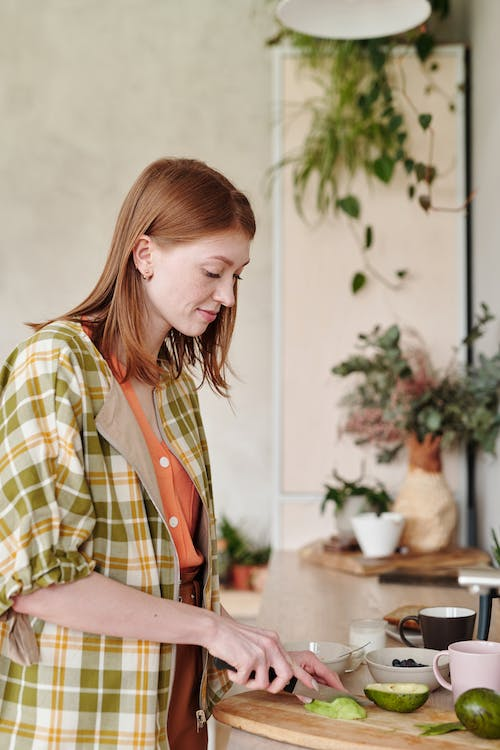knife: (212, 654, 377, 707)
